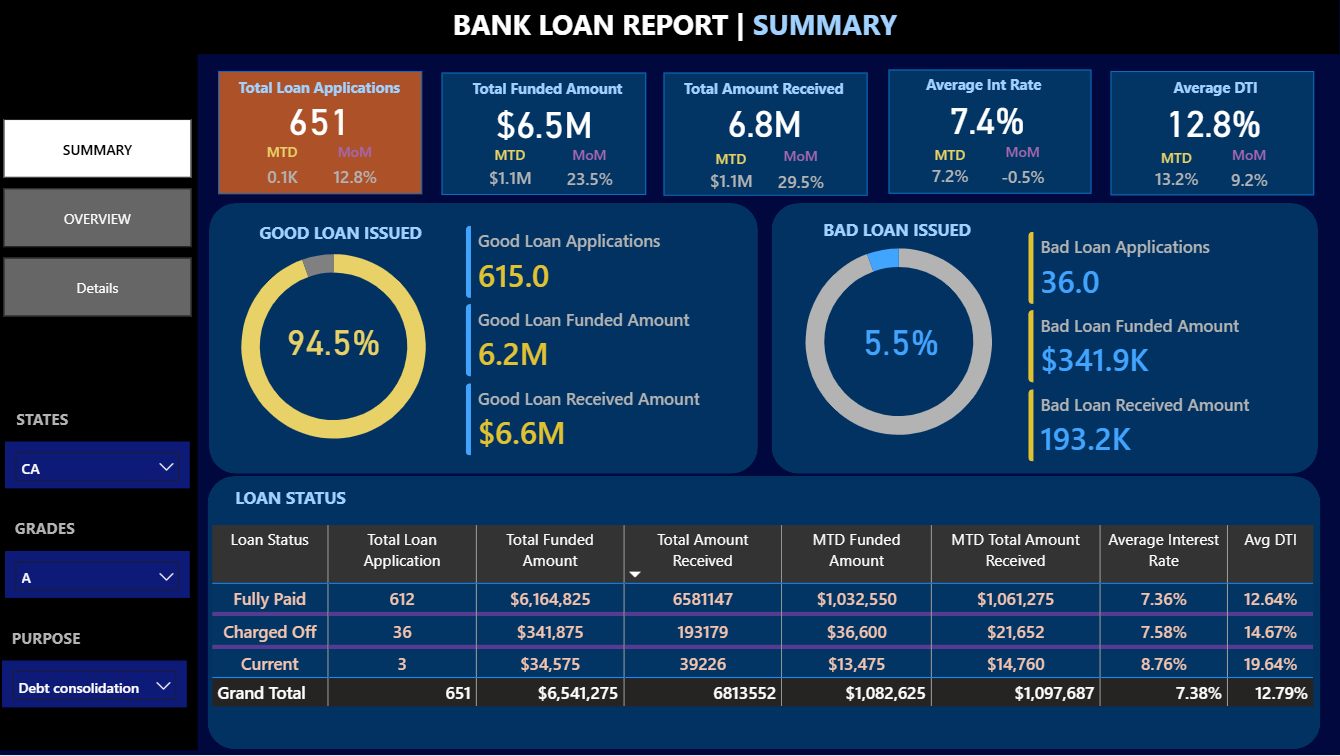

What the dashboard file says about the page in this screenshot:
{"tool":"powerbi","page":{"name":"SUMMARY","canvas":[1280,720],"ordinal":0},"visuals":[{"type":"shape","box":[0,52,192,664],"z":0},{"type":"shape","box":[0,0,1279.7,52.5],"z":1000},{"type":"textbox","box":[430.6,0,487.4,49.7],"z":2000},{"type":"shape","box":[849.8,67.6,193.3,118.3],"z":3000,"group":"g5"},{"type":"shape","box":[1061.5,68.5,194,118.4],"z":3000,"group":"g6"},{"type":"group","id":"g1","title":"Group 1","box":[202.9,69.1,210,120],"z":3000},{"type":"shape","box":[211,69.1,194.4,117.5],"z":3000,"group":"g1"},{"type":"shape","box":[423.7,69.7,195,116.7],"z":3000,"group":"g7"},{"type":"shape","box":[635,69.7,194.4,117.5],"z":3000,"group":"g2"},{"type":"group","id":"g2","title":"Group 1","box":[626.9,69.7,208,122],"z":4000},{"type":"card","fields":{"Values":["bank_loan_data.Total Funded Amount"]},"box":[426.6,91.1,189,50.4],"z":4000,"group":"g4"},{"type":"card","fields":{"Values":["bank_loan_data.Average Interest Rate"]},"box":[838.7,91.1,209.1,42.8],"z":4000,"group":"g5"},{"type":"card","fields":{"Values":["bank_loan_data.Total Loan Application"]},"box":[202.9,93.4,208.6,42.5],"z":4000,"group":"g1"},{"type":"card","fields":{"Values":["bank_loan_data.Avg DTI"]},"box":[1053.9,93.7,209.1,42.8],"z":4000,"group":"g6"},{"type":"card","fields":{"Values":["bank_loan_data.Total Amount Received"]},"box":[626.9,94,208.6,42.5],"z":4000,"group":"g2"},{"type":"textbox","box":[861.4,65.9,178.9,32.8],"z":5000,"group":"g5"},{"type":"textbox","box":[1097,68.9,121.5,32.4],"z":5000,"group":"g6"},{"type":"textbox","box":[225.2,69.1,180.3,32.4],"z":5000,"group":"g1"},{"type":"group","id":"g3","title":"Group 2","box":[426.6,69.7,188.3,118.3],"z":5000,"group":"g7"},{"type":"textbox","box":[447.4,69.7,165.5,32],"z":5000,"group":"g4"},{"type":"textbox","box":[649.2,69.7,180.3,32.4],"z":5000,"group":"g2"},{"type":"shape","box":[203.5,194,522.9,257.9],"z":5000},{"type":"card","title":"MTD","fields":{"Values":["bank_loan_data.MTD Loan Applications"]},"box":[246.3,136.1,53.6,52],"z":6000,"group":"g1"},{"type":"card","title":"MTD","fields":{"Values":["bank_loan_data.MTD Funded Amount"]},"box":[451.8,137.7,73.1,47.9],"z":6000,"group":"g4"},{"type":"card","title":"MTD","fields":{"Values":["bank_loan_data.MTD Avg Int Rate"]},"box":[876.5,139,65.5,45.4],"z":6000,"group":"g5"},{"type":"card","title":"MTD","fields":{"Values":["bank_loan_data.MTD Avg DTI"]},"box":[1091.7,141.6,65.5,45.4],"z":6000,"group":"g6"},{"type":"card","title":"MTD","fields":{"Values":["bank_loan_data.MTD Total Amount Received"]},"box":[667.2,142.8,65.5,45.4],"z":6000,"group":"g2"},{"type":"card","fields":{"Values":["bank_loan_data.Good Loan %"]},"box":[262.6,302.8,115.9,42.6],"z":6000},{"type":"card","title":"MoM","fields":{"Values":["bank_loan_data.MoM Loan Appliocations"]},"box":[314.8,136.1,54.8,52.7],"z":7000,"group":"g1"},{"type":"card","title":"MoM","fields":{"Values":["bank_loan_data.MoM Avg Int Rate"]},"box":[949.6,136.5,55.4,52.9],"z":7000,"group":"g5"},{"type":"card","title":"MoM","fields":{"Values":["bank_loan_data.MoM Total Funded Amount"]},"box":[527.4,137.7,73.1,50.4],"z":7000,"group":"g4"},{"type":"card","title":"MoM","fields":{"Values":["bank_loan_data.MoM Avg DTI"]},"box":[1164.8,139.1,55.4,52.9],"z":7000,"group":"g6"},{"type":"card","title":"MoM","fields":{"Values":["bank_loan_data.MoM Total Amount Received"]},"box":[737.8,140.3,55.4,52.9],"z":7000,"group":"g2"},{"type":"textbox","box":[246.1,205.8,177.4,37.9],"z":7000},{"type":"shape","box":[201.1,454.3,1060,260.3],"z":8000},{"type":"group","id":"g4","title":"Group 3","box":[426.6,69.7,189,118.4],"z":8001,"group":"g3"},{"type":"group","id":"g5","title":"Group 1","box":[838.7,65.9,209.1,123.5],"z":9000},{"type":"group","id":"g6","title":"Group 1","box":[1053.9,68.5,208.3,125],"z":10000},{"type":"group","id":"g7","title":"Group 4","box":[423.7,69.7,196,118],"z":11000},{"type":"shape","box":[738.2,194,520.5,257.9],"z":12000},{"type":"donutChart","fields":{"Category":["bank_loan_data.Good vs Bad Loan"],"Y":["bank_loan_data.Total Loan Application"]},"box":[196.4,215.3,250.8,229.5],"z":13000},{"type":"cardVisual","fields":{"Data":["bank_loan_data.Good Loan Applications","bank_loan_data.Good Loan Funded Amount","bank_loan_data.Good Loan Received Amount"]},"box":[430.6,198.7,293.4,253.2],"z":14000},{"type":"donutChart","fields":{"Category":["bank_loan_data.Good vs Bad Loan"],"Y":["bank_loan_data.Total Loan Application"]},"box":[733.5,210.6,253.2,231.9],"z":15000},{"type":"textbox","box":[783.1,203.5,175.1,45],"z":16000},{"type":"card","fields":{"Values":["bank_loan_data.Bad Loan %"]},"box":[804.4,302.8,113.6,42.6],"z":17000},{"type":"cardVisual","fields":{"Data":["bank_loan_data.Bad Loan Applications","bank_loan_data.Bad Loan Funded Amount","bank_loan_data.Bad Loan Received Amount"]},"box":[966.1,204.6,289.6,253.2],"z":18000},{"type":"tableEx","fields":{"Values":["bank_loan_data.loan_status","bank_loan_data.Total Loan Application","bank_loan_data.Total Funded Amount","bank_loan_data.Total Amount Received","bank_loan_data.MTD Funded Amount","bank_loan_data.MTD Total Amount Received","bank_loan_data.Average Interest Rate","bank_loan_data.Avg DTI"]},"box":[200,496.2,1061.6,195.3],"z":19000},{"type":"textbox","box":[222.4,459,146.7,37.9],"z":20000},{"type":"slicer","fields":{"Values":["bank_loan_data.address_state"]},"box":[8.1,420.9,176.2,44.6],"z":21000},{"type":"textbox","box":[14.2,384.8,81,36.5],"z":22000},{"type":"slicer","fields":{"Values":["bank_loan_data.grade"]},"box":[8.1,525.4,176.2,44.6],"z":23000},{"type":"textbox","box":[12.2,488.1,81,36.5],"z":24000},{"type":"slicer","fields":{"Values":["bank_loan_data.purpose"]},"box":[6.1,629.9,176.2,44.6],"z":25000},{"type":"textbox","box":[10.1,593.4,81,36.5],"z":26000},{"type":"pageNavigator","box":[6.6,113.8,179.4,188.2],"z":27000}]}

Visuals, with their boxes in screenshot pixels (x1, y1, x2, y2), scaled from the page's 1280x720 canvas onto the 1340x756 screenshot:
shape: pyautogui.locateOnScreen(0, 55, 201, 752)
shape: pyautogui.locateOnScreen(0, 0, 1339, 55)
textbox: pyautogui.locateOnScreen(451, 0, 961, 52)
shape: pyautogui.locateOnScreen(890, 71, 1092, 195)
shape: pyautogui.locateOnScreen(1111, 72, 1314, 196)
"Group 1" group: pyautogui.locateOnScreen(212, 73, 432, 199)
shape: pyautogui.locateOnScreen(221, 73, 424, 196)
shape: pyautogui.locateOnScreen(444, 73, 648, 196)
shape: pyautogui.locateOnScreen(665, 73, 868, 197)
"Group 1" group: pyautogui.locateOnScreen(656, 73, 874, 201)
card - bank_loan_data.Total Funded Amount: pyautogui.locateOnScreen(447, 96, 644, 149)
card - bank_loan_data.Average Interest Rate: pyautogui.locateOnScreen(878, 96, 1097, 141)
card - bank_loan_data.Total Loan Application: pyautogui.locateOnScreen(212, 98, 431, 143)
card - bank_loan_data.Avg DTI: pyautogui.locateOnScreen(1103, 98, 1322, 143)
card - bank_loan_data.Total Amount Received: pyautogui.locateOnScreen(656, 99, 875, 143)
textbox: pyautogui.locateOnScreen(902, 69, 1089, 104)
textbox: pyautogui.locateOnScreen(1148, 72, 1276, 106)
textbox: pyautogui.locateOnScreen(236, 73, 425, 107)
"Group 2" group: pyautogui.locateOnScreen(447, 73, 644, 197)
textbox: pyautogui.locateOnScreen(468, 73, 642, 107)
textbox: pyautogui.locateOnScreen(680, 73, 868, 107)
shape: pyautogui.locateOnScreen(213, 204, 760, 474)
"MTD" card: pyautogui.locateOnScreen(258, 143, 314, 198)
"MTD" card: pyautogui.locateOnScreen(473, 145, 550, 195)
"MTD" card: pyautogui.locateOnScreen(918, 146, 986, 194)
"MTD" card: pyautogui.locateOnScreen(1143, 149, 1211, 196)
"MTD" card: pyautogui.locateOnScreen(698, 150, 767, 198)
card - bank_loan_data.Good Loan %: pyautogui.locateOnScreen(275, 318, 396, 363)
"MoM" card: pyautogui.locateOnScreen(330, 143, 387, 198)
"MoM" card: pyautogui.locateOnScreen(994, 143, 1052, 199)
"MoM" card: pyautogui.locateOnScreen(552, 145, 629, 198)
"MoM" card: pyautogui.locateOnScreen(1219, 146, 1277, 202)
"MoM" card: pyautogui.locateOnScreen(772, 147, 830, 203)
textbox: pyautogui.locateOnScreen(258, 216, 443, 256)
shape: pyautogui.locateOnScreen(211, 477, 1320, 750)
"Group 3" group: pyautogui.locateOnScreen(447, 73, 644, 198)
"Group 1" group: pyautogui.locateOnScreen(878, 69, 1097, 199)
"Group 1" group: pyautogui.locateOnScreen(1103, 72, 1321, 203)
"Group 4" group: pyautogui.locateOnScreen(444, 73, 649, 197)
shape: pyautogui.locateOnScreen(773, 204, 1318, 474)
donutChart - bank_loan_data.Good vs Bad Loan x bank_loan_data.Total Loan Application: pyautogui.locateOnScreen(206, 226, 468, 467)
cardVisual - bank_loan_data.Good Loan Applications x bank_loan_data.Good Loan Funded Amount: pyautogui.locateOnScreen(451, 209, 758, 474)
donutChart - bank_loan_data.Good vs Bad Loan x bank_loan_data.Total Loan Application: pyautogui.locateOnScreen(768, 221, 1033, 465)
textbox: pyautogui.locateOnScreen(820, 214, 1003, 261)
card - bank_loan_data.Bad Loan %: pyautogui.locateOnScreen(842, 318, 961, 363)
cardVisual - bank_loan_data.Bad Loan Applications x bank_loan_data.Bad Loan Funded Amount: pyautogui.locateOnScreen(1011, 215, 1315, 481)
tableEx - bank_loan_data.loan_status x bank_loan_data.Total Loan Application: pyautogui.locateOnScreen(209, 521, 1321, 726)
textbox: pyautogui.locateOnScreen(233, 482, 386, 522)
slicer - bank_loan_data.address_state: pyautogui.locateOnScreen(8, 442, 193, 489)
textbox: pyautogui.locateOnScreen(15, 404, 100, 442)
slicer - bank_loan_data.grade: pyautogui.locateOnScreen(8, 552, 193, 598)
textbox: pyautogui.locateOnScreen(13, 513, 98, 551)
slicer - bank_loan_data.purpose: pyautogui.locateOnScreen(6, 661, 191, 708)
textbox: pyautogui.locateOnScreen(11, 623, 95, 661)
pageNavigator: pyautogui.locateOnScreen(7, 119, 195, 317)
